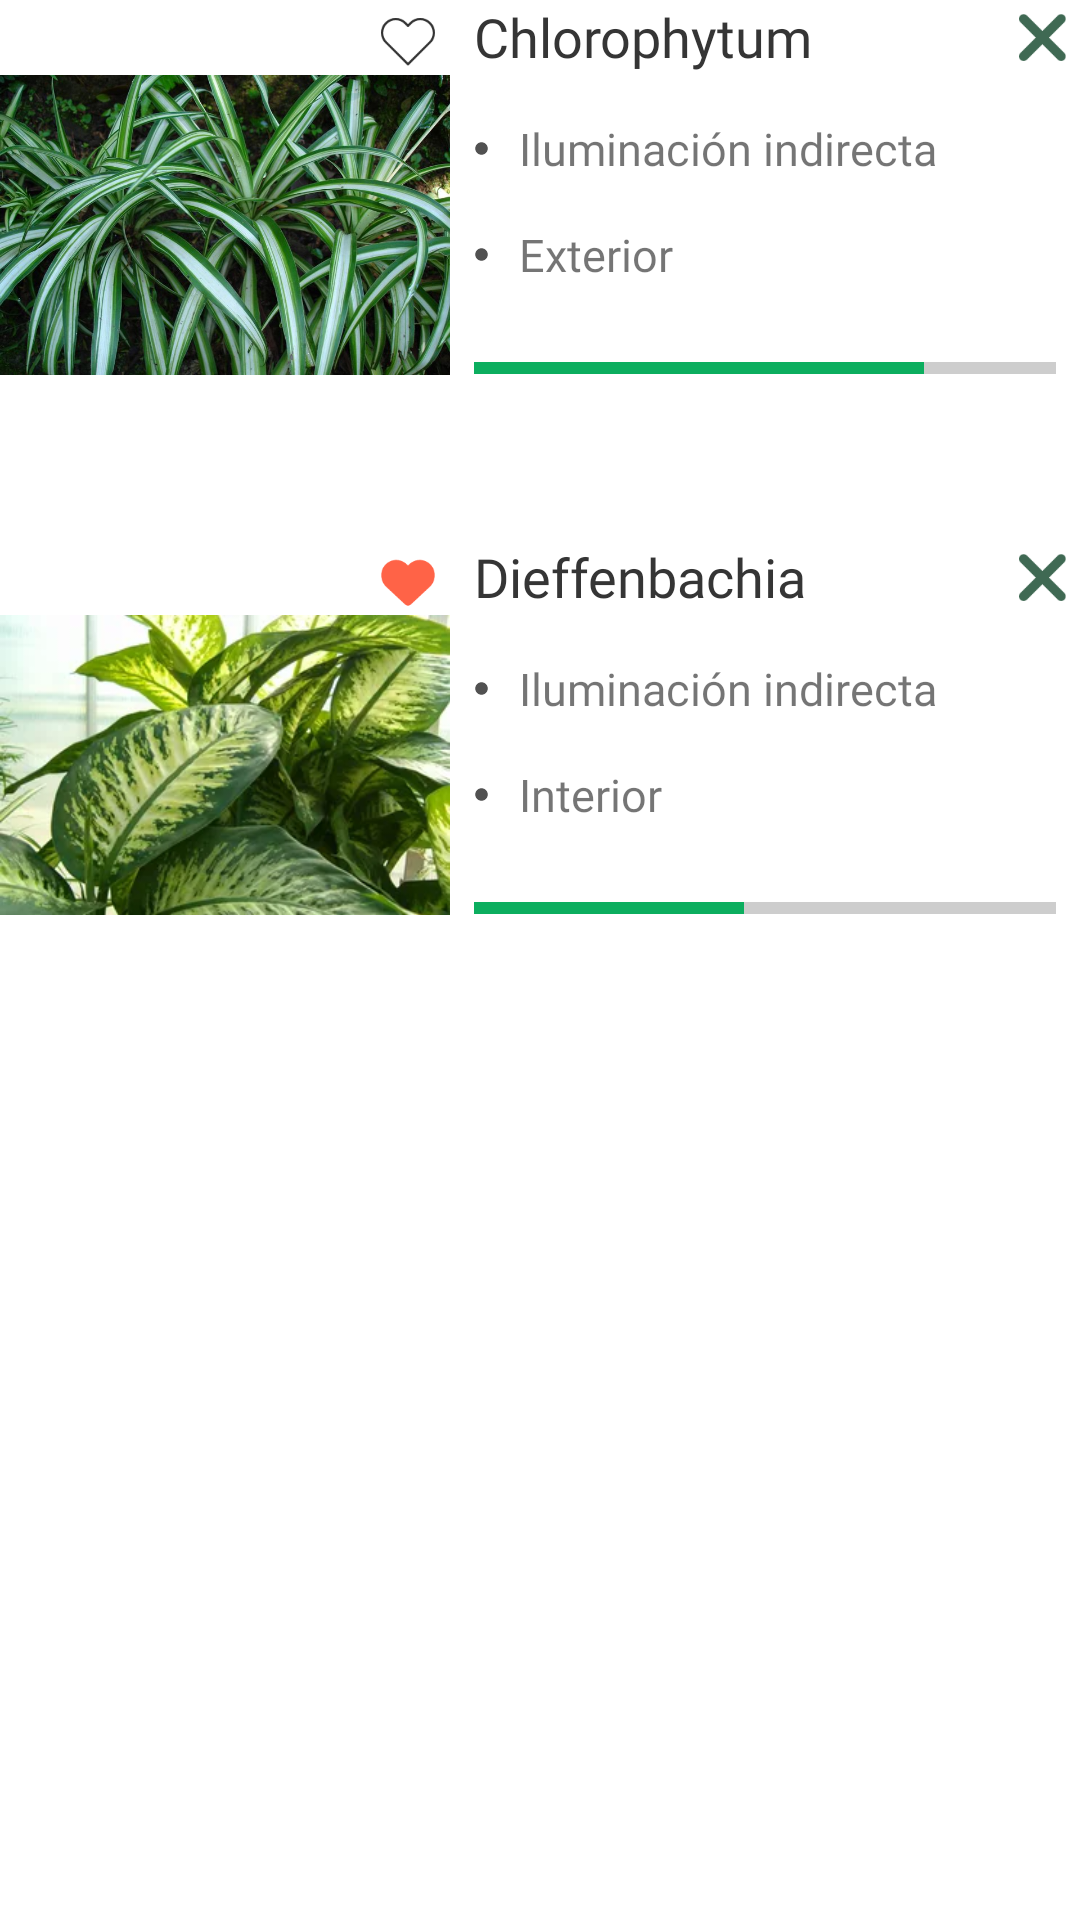

Screen size 1080 x 1920. Icon name, then its box in pixels as (x1, y1, x2, y2):
xmark: (1019, 14, 1066, 61), (1019, 554, 1066, 601)
